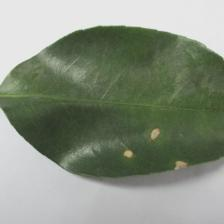canker: (117, 115, 194, 175)
